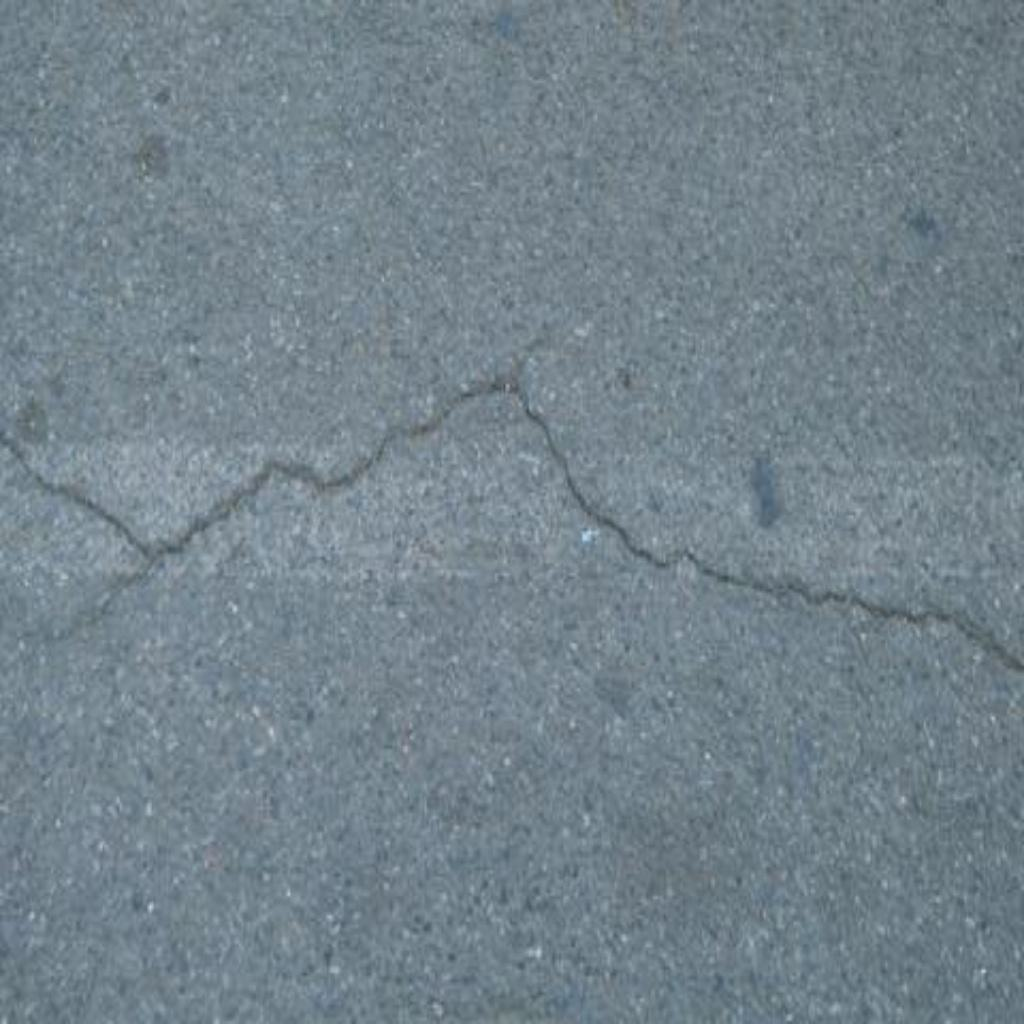Crack: (1, 373, 1024, 675)
